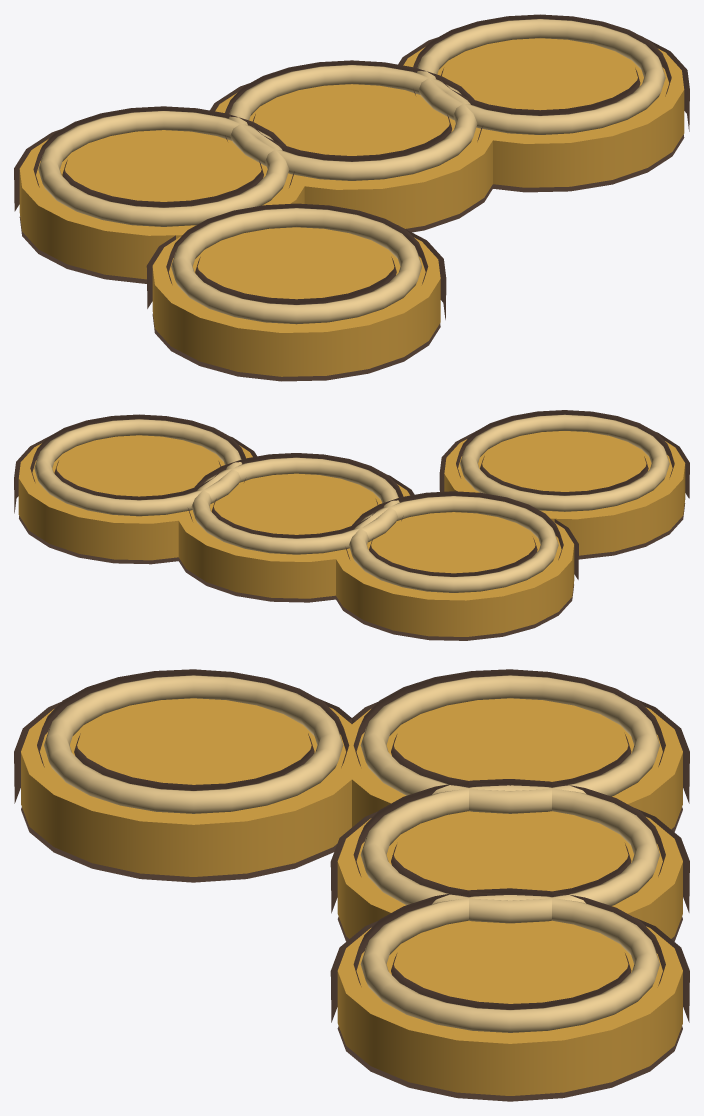
The model's file is prop_202.glb.
3 views of the same model, one above another, from view 1: azimuth 30°, elevation 25°; view 2: azimuth 150°, elevation 25°; view 3: azimuth 270°, elevation 25° (orthographic). The views are drawn at different scales.
Parts seen in each view (by area): view 1: prop_202; view 2: prop_202; view 3: prop_202.
Part boxes in pixels (box(x1,y1,x2,y2)): prop_202: box(14, 14, 689, 381); prop_202: box(14, 410, 689, 640); prop_202: box(14, 669, 689, 1101).
Bounding box in the file's own units: 0.83 × 0.0862 × 0.6394.
